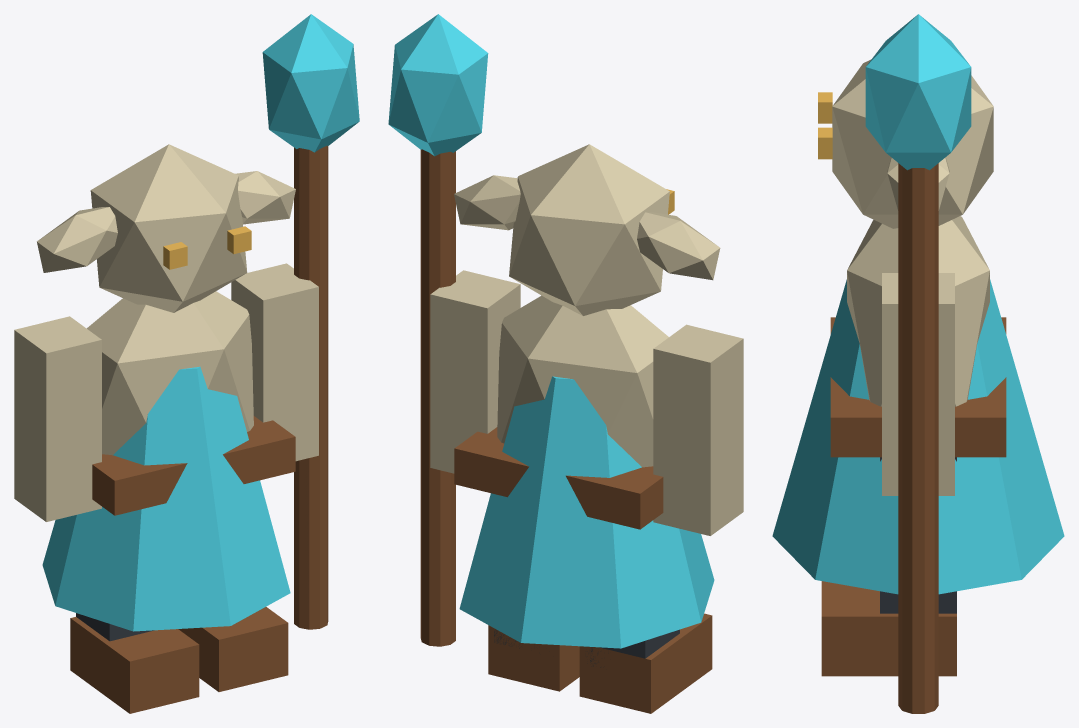
The model's file is summoner.fbx.
3 renders of one model, left to right at view 1: azimuth 30°, elevation 25°; view 2: azimuth 150°, elevation 25°; view 3: azimuth 270°, elevation 25°, orthographic. The views are drawn at different scales.
Visible parts, largest first — view 1: Cone, Head.004, ArmLMesh.004, Torso.004, Staff, ArmRMesh.004, StaffGem, Boot.008, Belt.004, Boot.009, Ear.008, Ear.009 (+3 smaller); view 2: Cone, Head.004, ArmLMesh.004, Torso.004, Staff, ArmRMesh.004, StaffGem, Belt.004, Boot.008, Boot.009, Ear.008, Ear.009 (+1 smaller); view 3: Cone, Staff, StaffGem, Torso.004, Head.004, Boot.009, ArmRMesh.004, Belt.004, LegRMesh.004, Ear.009, Eye.009, Eye.008.
Boxes of the visible parts, <box> form: Cone: <box>42,366,290,631</box>; Head.004: <box>90,144,247,312</box>; ArmLMesh.004: <box>14,316,101,521</box>; Torso.004: <box>87,291,253,455</box>; Staff: <box>294,145,328,629</box>; ArmRMesh.004: <box>231,263,318,461</box>; StaffGem: <box>262,14,359,152</box>; Boot.008: <box>70,617,199,713</box>; Belt.004: <box>92,416,295,515</box>; Boot.009: <box>178,607,288,691</box>; Ear.008: <box>37,207,117,272</box>; Ear.009: <box>235,171,295,224</box>; Cone: <box>459,376,714,648</box>; Head.004: <box>509,144,669,315</box>; ArmLMesh.004: <box>653,324,743,535</box>; Torso.004: <box>497,295,668,467</box>; Staff: <box>420,149,455,646</box>; ArmRMesh.004: <box>430,270,520,473</box>; StaffGem: <box>388,14,488,156</box>; Belt.004: <box>454,427,663,529</box>; Boot.008: <box>579,613,712,713</box>; Boot.009: <box>488,625,579,691</box>; Ear.008: <box>637,212,720,280</box>; Ear.009: <box>454,175,520,230</box>; Cone: <box>772,279,1064,594</box>; Staff: <box>898,163,938,713</box>; StaffGem: <box>865,14,971,170</box>; Torso.004: <box>847,216,989,406</box>; Head.004: <box>832,59,993,228</box>; Boot.009: <box>821,581,956,676</box>; ArmRMesh.004: <box>882,273,954,495</box>; Belt.004: <box>830,317,1006,457</box>; LegRMesh.004: <box>880,457,956,613</box>; Ear.009: <box>887,157,949,210</box>; Eye.009: <box>818,127,832,159</box>; Eye.008: <box>818,92,832,123</box>.
Size of the model in its own units: 116 by 211 by 80.
